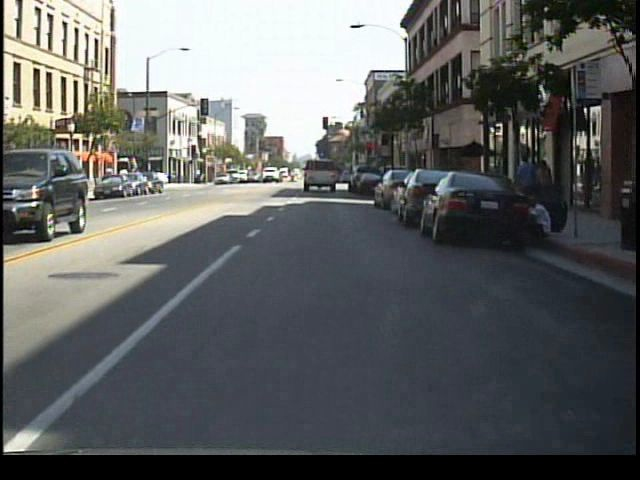person: (512, 149, 538, 221), (532, 157, 556, 219)
